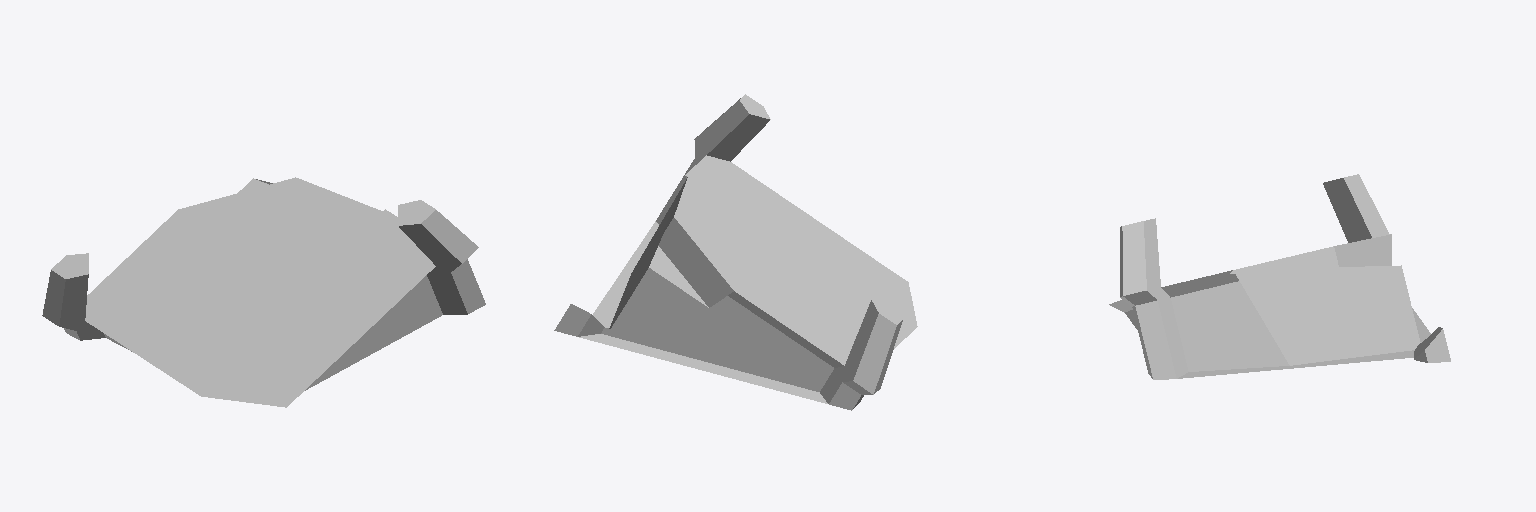
Rendered from Debris20.obj.
3 renders of one model, left to right at view 1: azimuth 30°, elevation 25°; view 2: azimuth 150°, elevation 25°; view 3: azimuth 270°, elevation 25°, orthographic.
Visible parts, largest first — view 1: Debris20; view 2: Debris20; view 3: Debris20.
Part boxes in pixels (x1,y1,x2,y2): Debris20: (42,177,485,407); Debris20: (554,94,917,410); Debris20: (1109,174,1450,379).
Bounding box in the file's own units: 5.27 × 2.49 × 4.69.